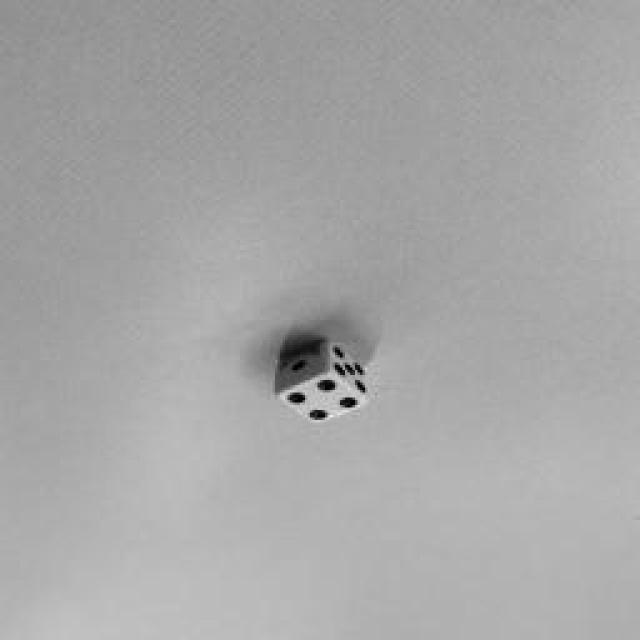dice_4: (280, 372, 365, 422)
